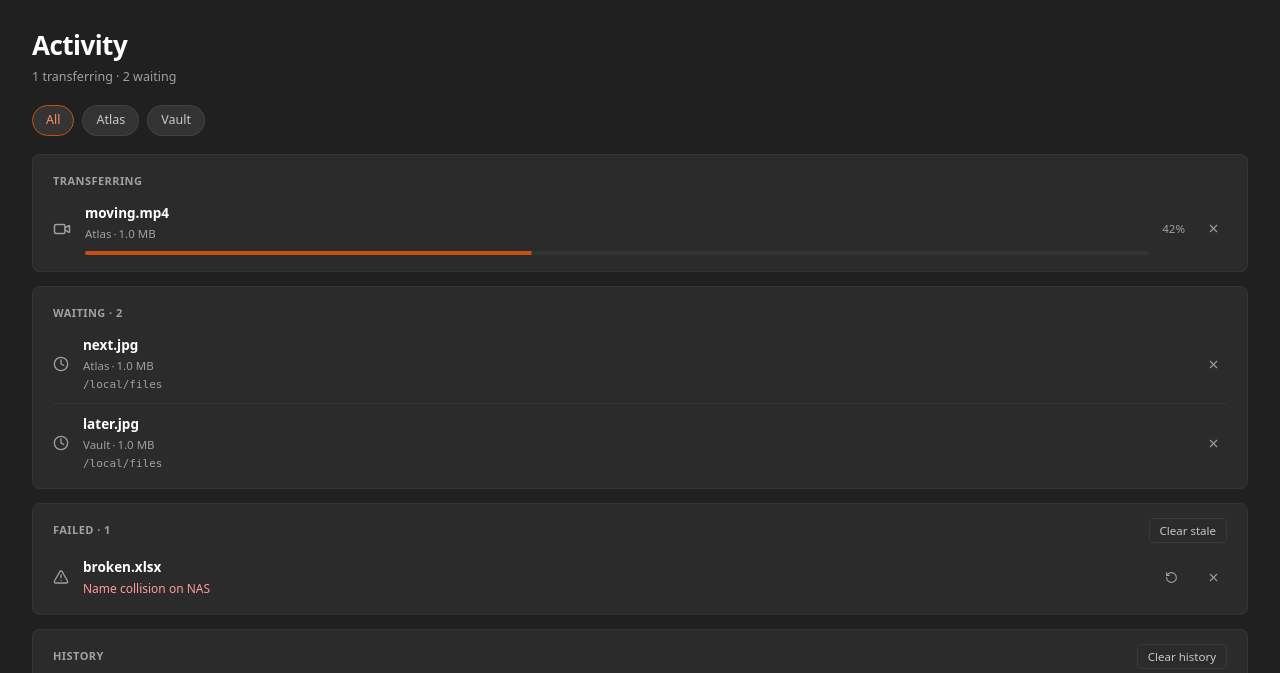
Scenario: QueueView redesign › filters by connection through the chips
The width and height of the screenshot is (1280, 673).
Expected: the text "moving.mp4" is shown, [85,203,169,223]
Click the button "Vault". click: click(176, 120)
box: [147,105,205,136]
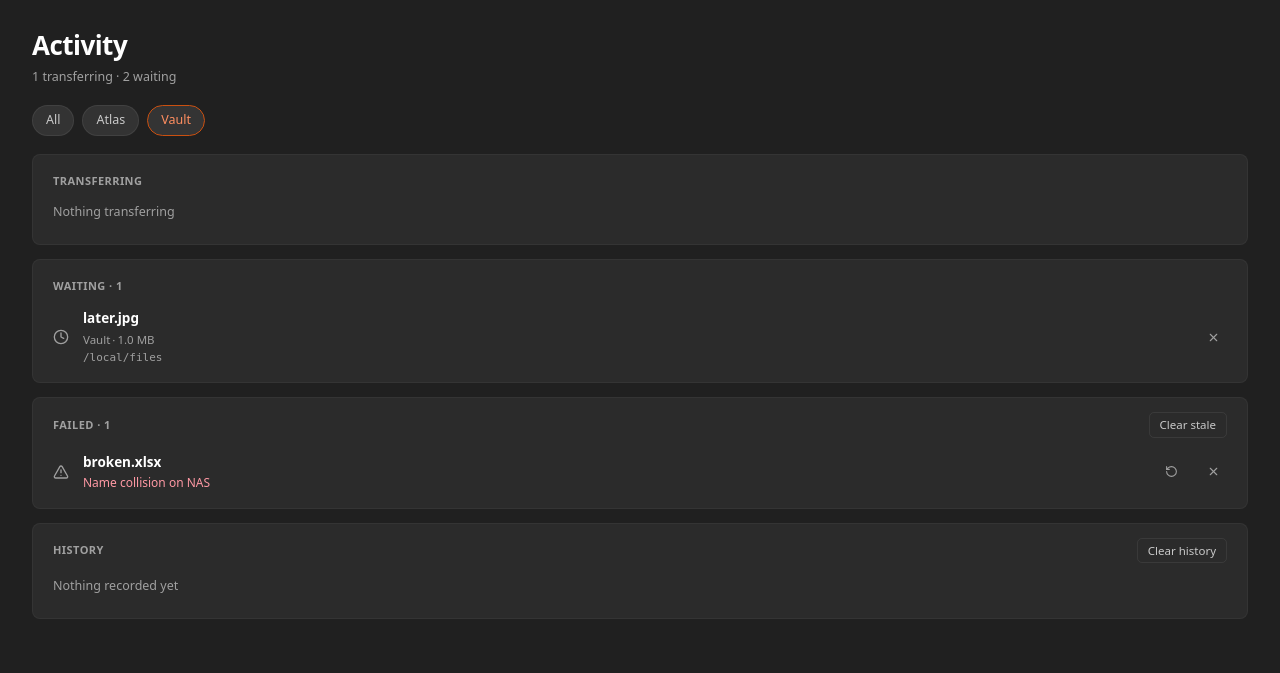
Expected: the text "later.jpg" is shown, [83,308,139,328]
Expected: the text "next.jpg" is gone
Click the button "All". click: click(53, 120)
box: [32,105,74,136]
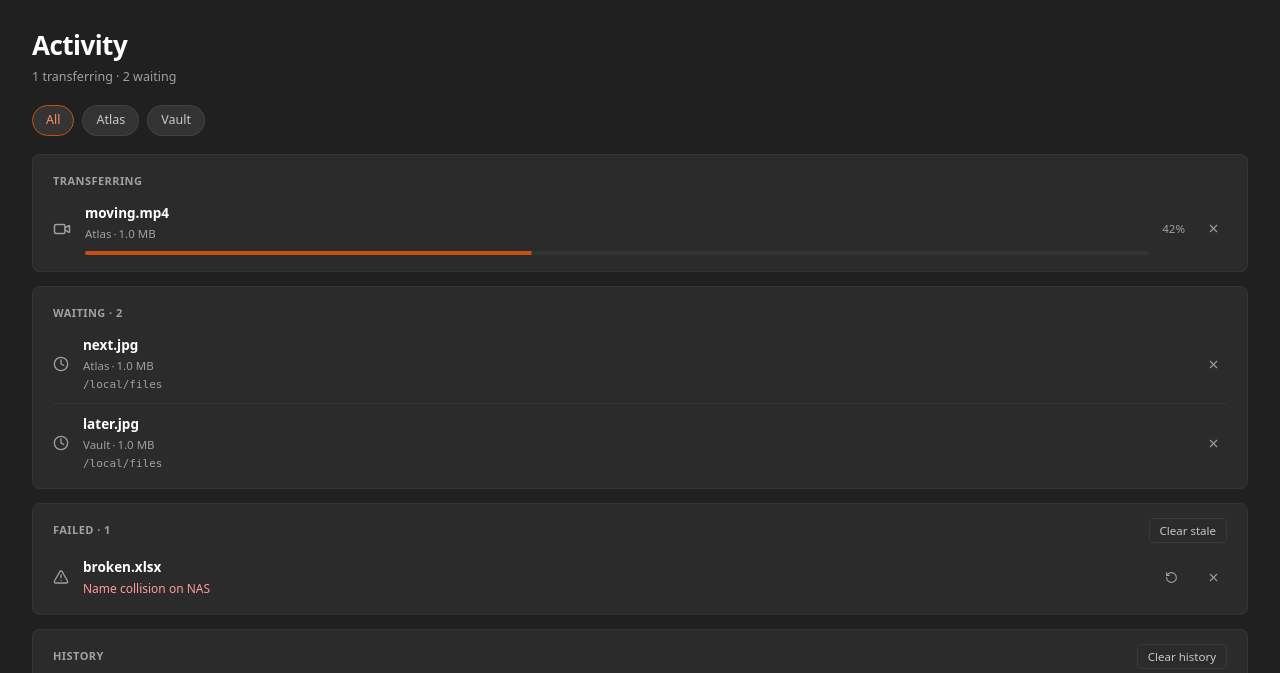
Expected: the text "next.jpg" is shown, [83,335,138,355]
